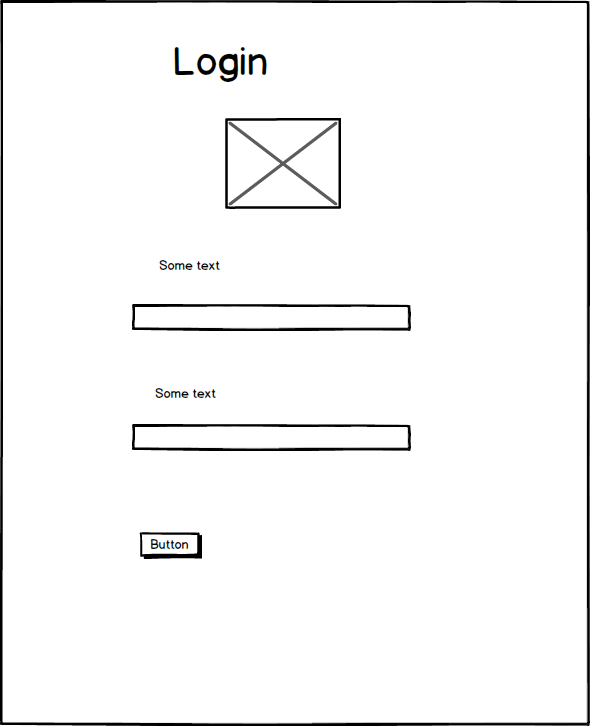button: (131, 525, 211, 563)
h1: (159, 37, 274, 88)
image: (220, 111, 346, 215)
input: (125, 295, 425, 342), (122, 420, 422, 459)
label: (148, 252, 230, 280), (144, 383, 231, 406)
